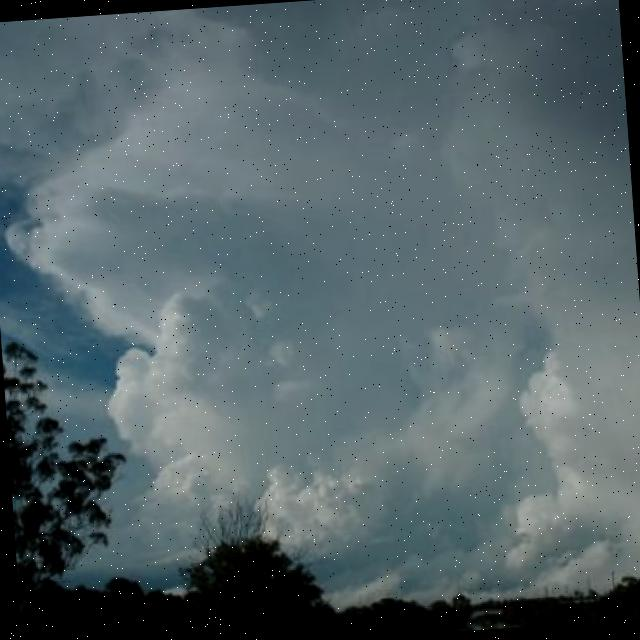Cb: (1, 1, 640, 439)
